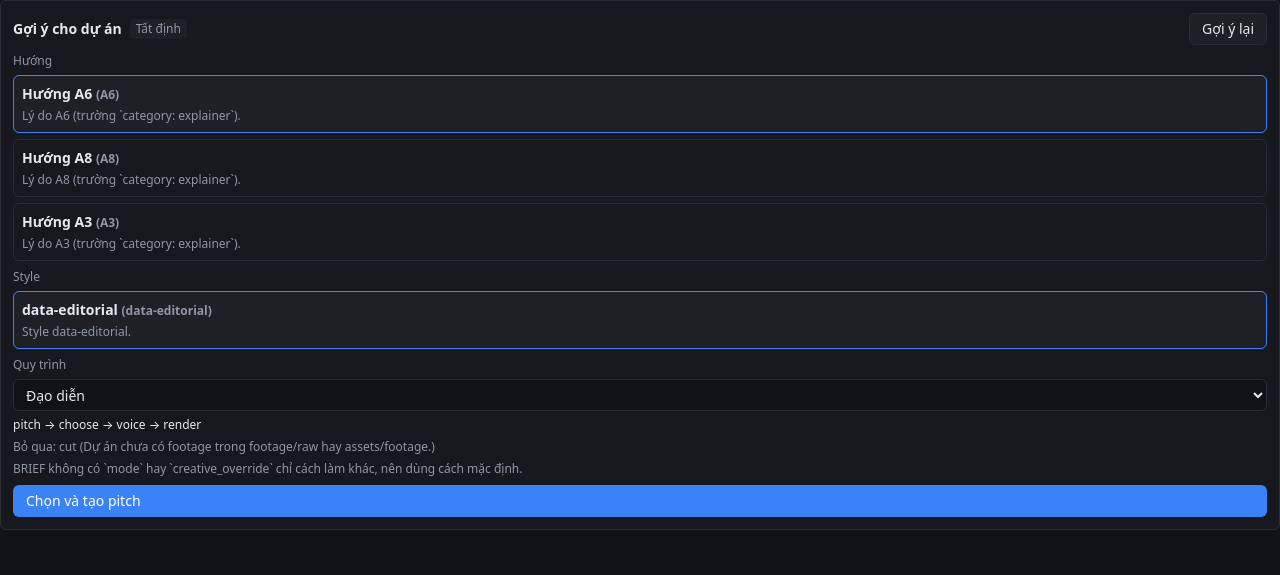
Scenario: SuggestCard › a provider that builds pitches and saves the mode changes the sentences
Click the button "Chọn và tạo pitch". click: (83, 500)
box: [13, 485, 1267, 517]
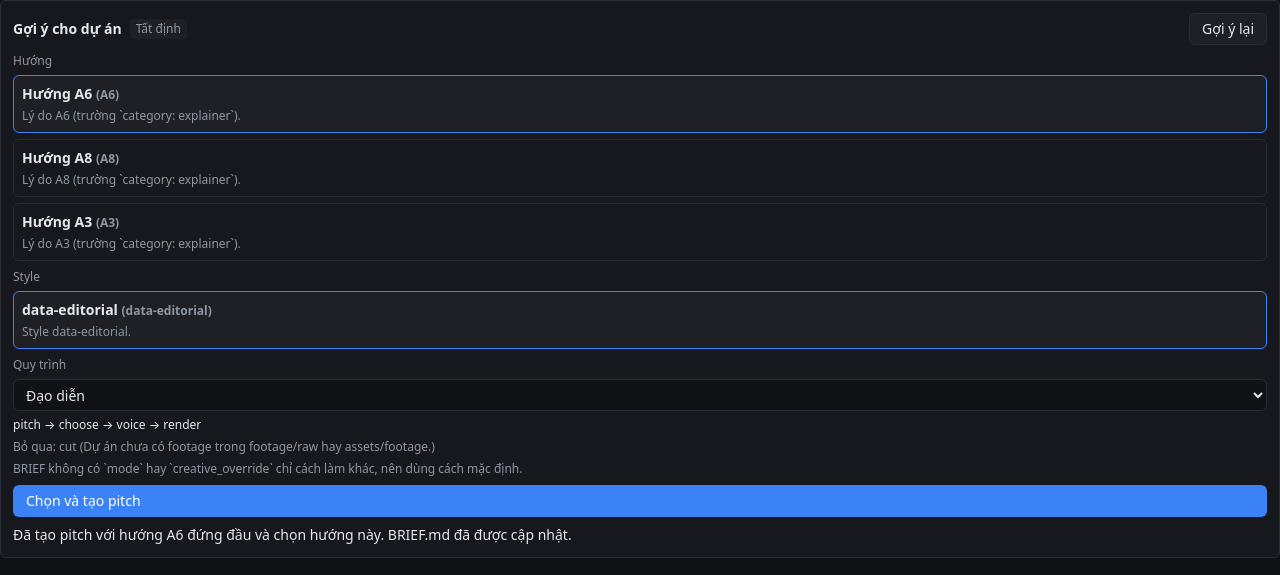
Expected: the element "Gợi ý cho dự án" shows "Đã tạo pitch với hướng A6 đứng đầu và chọn hướng này. BRIEF.md đã được cập nhật.", [13, 525, 572, 544]
